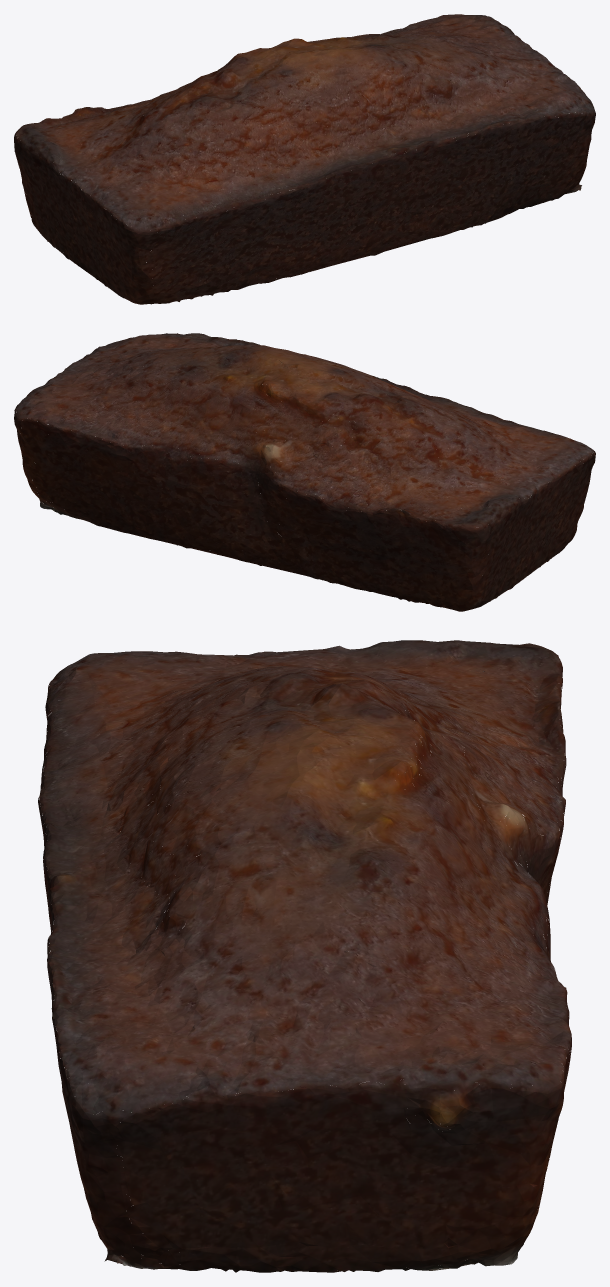
File: madlen_low.glb
3 renders of one model, top to bottom at view 1: azimuth 30°, elevation 25°; view 2: azimuth 150°, elevation 25°; view 3: azimuth 270°, elevation 25°, orthographic. The views are drawn at different scales.
Visible parts, largest first — view 1: Mesh_0_Part_0; view 2: Mesh_0_Part_0; view 3: Mesh_0_Part_0.
Part boxes in pixels (left/top/right/bottom): Mesh_0_Part_0: left=14, top=14, right=595, bottom=304; Mesh_0_Part_0: left=14, top=333, right=595, bottom=611; Mesh_0_Part_0: left=38, top=640, right=571, bottom=1272.
Size of the model in its own units: 6.6 by 2.12 by 3.19.
1 material, 1 textured.
